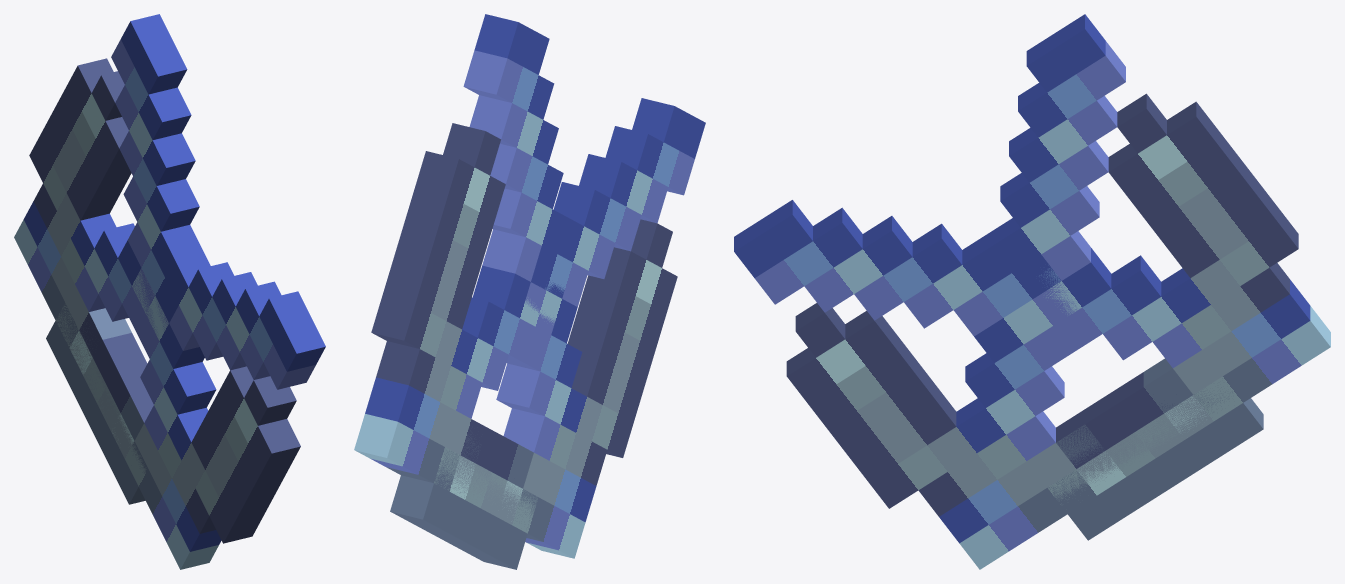
The model's file is ghostly_pickaxe.glb.
3 views of the same model, side by side, from view 1: azimuth 30°, elevation 25°; view 2: azimuth 150°, elevation 25°; view 3: azimuth 270°, elevation 25° (orthographic). The views are drawn at different scales.
Visible parts, largest first — view 1: off__Tool_L, main__Tool_R; view 2: main__Tool_R, off__Tool_L; view 3: off__Tool_L, main__Tool_R.
Boxes of the visible parts, bbox=[...] form: off__Tool_L: bbox=[56, 14, 300, 569]; main__Tool_R: bbox=[14, 58, 325, 476]; main__Tool_R: bbox=[354, 98, 705, 561]; off__Tool_L: bbox=[434, 14, 677, 569]; off__Tool_L: bbox=[786, 14, 1233, 569]; main__Tool_R: bbox=[734, 93, 1330, 521].
Bounding box in the file's own units: 0.0531 × 0.8879 × 0.8879.
Materials: 1 (1 with a texture image).
